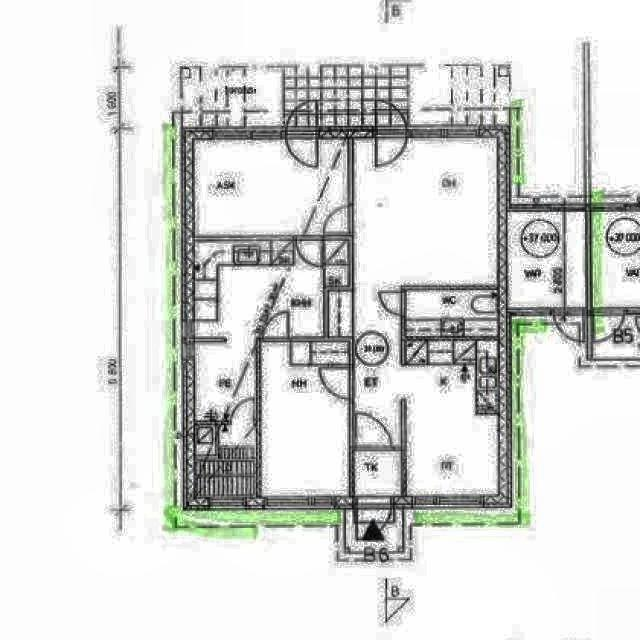room: (353, 138, 497, 286), (195, 241, 348, 336), (196, 140, 347, 235), (407, 341, 498, 495), (261, 343, 350, 495), (508, 212, 585, 308), (194, 425, 256, 497), (407, 292, 497, 336)
